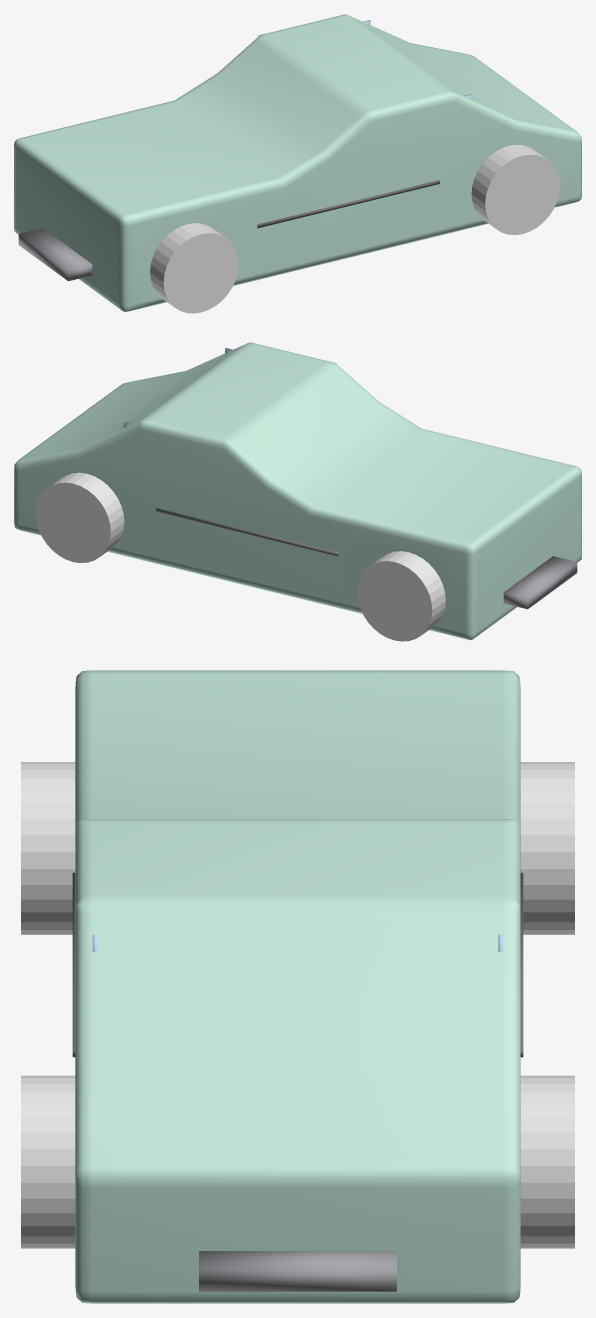
File: car_truck_mint.glb
3 renders of one model, top to bottom at view 1: azimuth 30°, elevation 25°; view 2: azimuth 150°, elevation 25°; view 3: azimuth 270°, elevation 25°, orthographic. The views are drawn at different scales.
Visible parts, largest first — view 1: body, well_rear_r, well_front_r, bumper_rear, trim_right; view 2: body, well_rear_l, well_front_l, bumper_rear, trim_left; view 3: body, well_front_l, well_front_r, well_rear_l, well_rear_r, bumper_front.
Boxes of the visible parts, x1,y1,x2,y2 form: body: (14,14,581,312); well_rear_r: (150,223,238,313); well_front_r: (471,144,559,234); bumper_rear: (18,228,92,281); trim_right: (257,180,439,228); body: (14,342,581,640); well_rear_l: (357,551,445,641); well_front_l: (36,472,124,562); bumper_rear: (503,556,577,609); trim_left: (156,508,338,556); body: (75,670,520,1303); well_front_l: (520,1075,574,1248); well_front_r: (21,1075,75,1248); well_rear_l: (520,762,574,934); well_rear_r: (21,762,75,934); bumper_front: (199,1251,396,1291).
Bounding box in the file's own units: 4.7 × 1.28 × 2.24.
